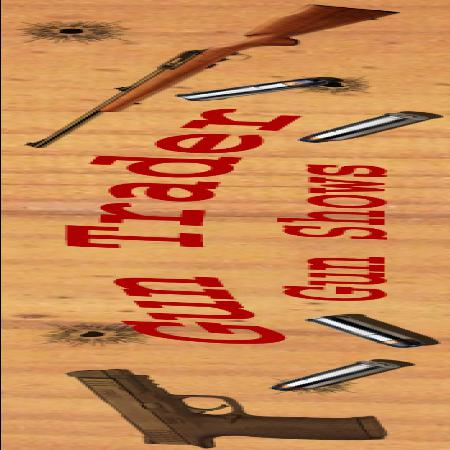Pistol: (54, 368, 384, 448)
